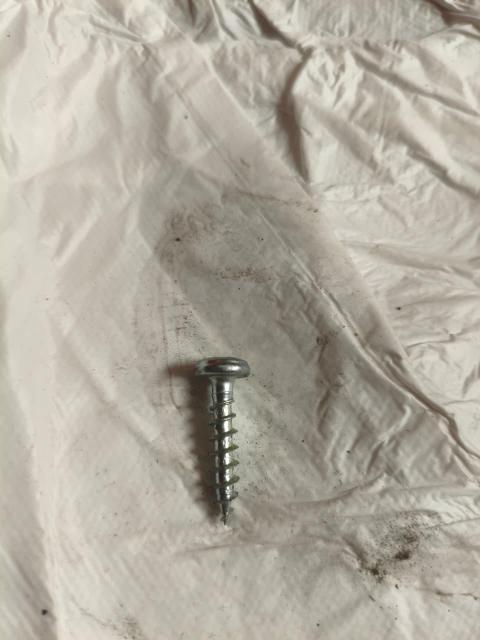Metal: (193, 365, 257, 525)
